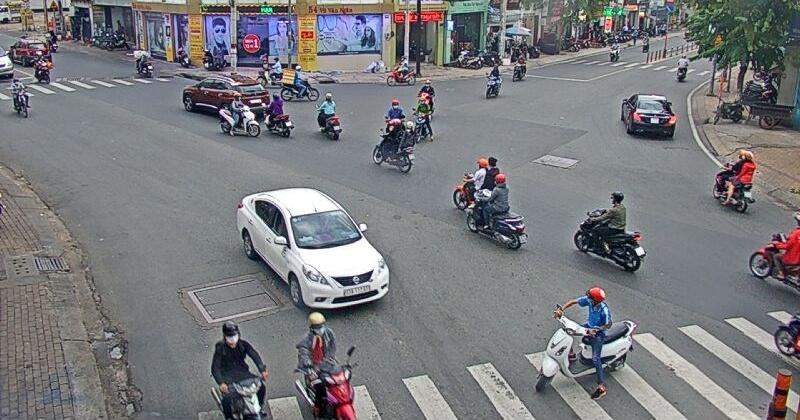xe hoi: (236, 187, 390, 310), (181, 75, 270, 113), (621, 94, 676, 138)
xe may: (534, 285, 636, 392), (295, 312, 356, 420), (573, 190, 645, 272), (210, 320, 269, 420), (466, 174, 528, 250), (748, 217, 800, 280), (713, 149, 756, 212), (452, 157, 496, 209), (372, 120, 415, 173), (218, 92, 260, 137), (280, 65, 319, 102), (265, 92, 294, 137), (316, 92, 342, 141), (412, 97, 434, 142)
